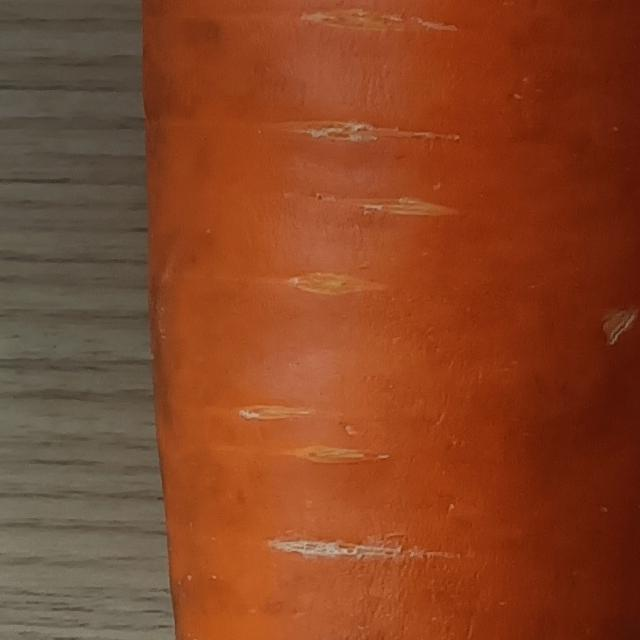carrot: (122, 1, 640, 640)
